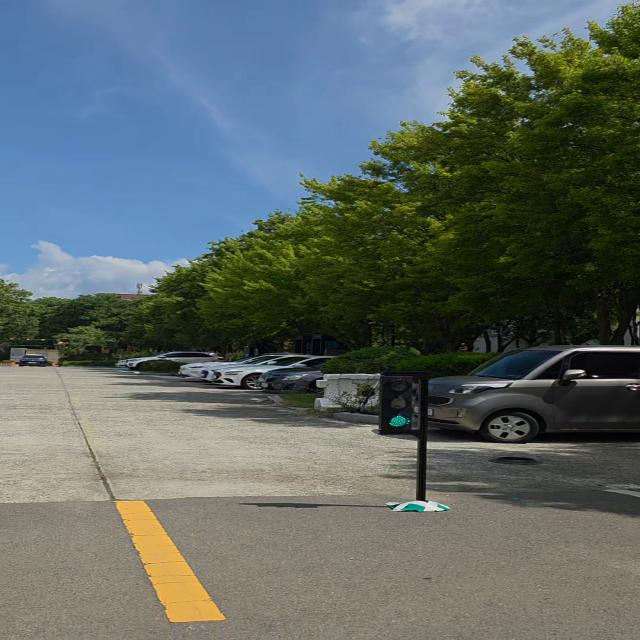green: (376, 371, 419, 433)
